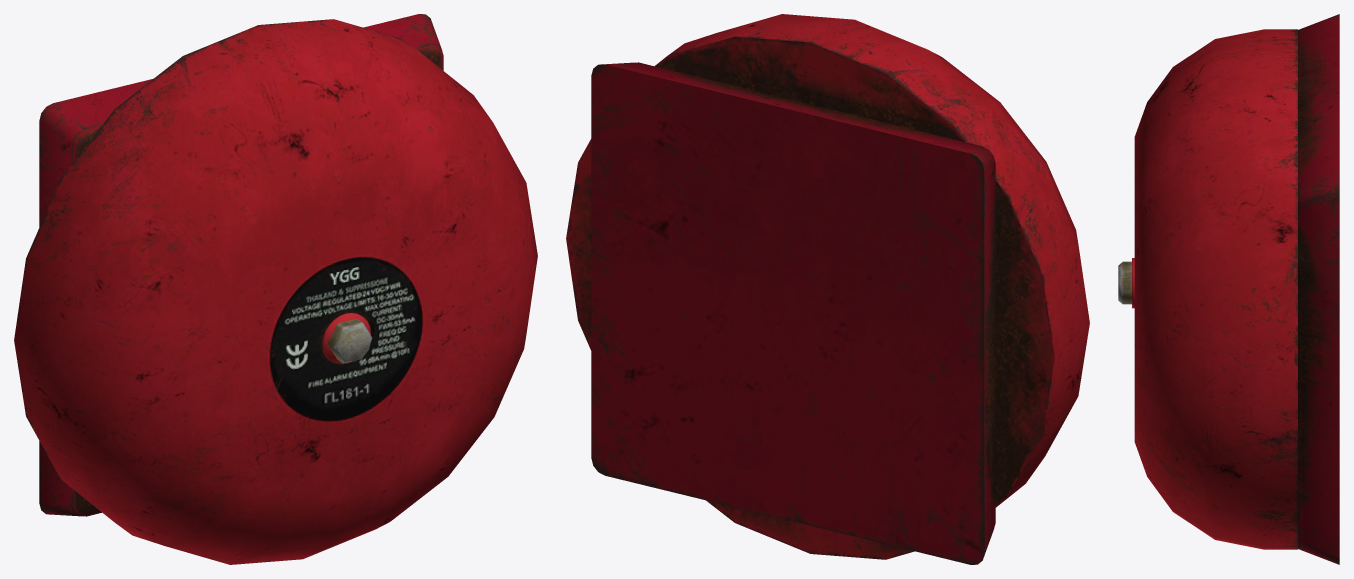
The model's file is alarmBell01.FBX.
3 renders of one model, left to right at view 1: azimuth 30°, elevation 25°; view 2: azimuth 150°, elevation 25°; view 3: azimuth 270°, elevation 25°, orthographic. The views are drawn at different scales.
Visible parts, largest first — view 1: SM_AlarmBell01; view 2: SM_AlarmBell01; view 3: SM_AlarmBell01.
Part boxes in pixels (box(x1,y1,x2,y2)): SM_AlarmBell01: box(14, 14, 537, 564); SM_AlarmBell01: box(566, 14, 1089, 564); SM_AlarmBell01: box(1118, 14, 1339, 564).
Bounding box in the file's own units: 26.12 × 26.12 × 11.02.
Materials: 1 (1 with a texture image).
